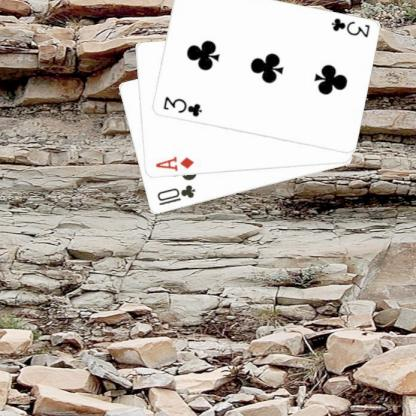10C: (154, 182, 197, 208)
3C: (160, 93, 203, 118), (328, 15, 371, 39)
AD: (153, 154, 195, 173)
